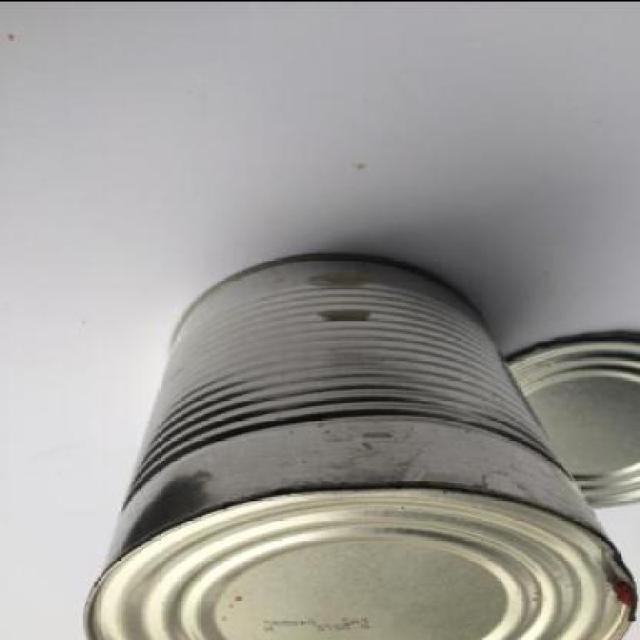METAL: (94, 256, 640, 638), (498, 335, 638, 508)
